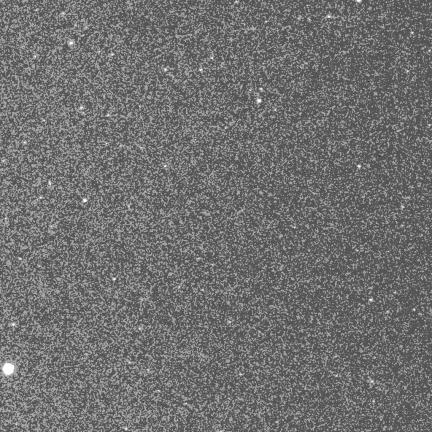blob: (3, 363, 14, 375), (357, 165, 362, 169), (257, 98, 261, 103), (69, 41, 73, 45), (83, 198, 87, 202), (199, 68, 203, 71), (327, 15, 331, 18), (113, 278, 116, 281), (164, 68, 167, 71)
